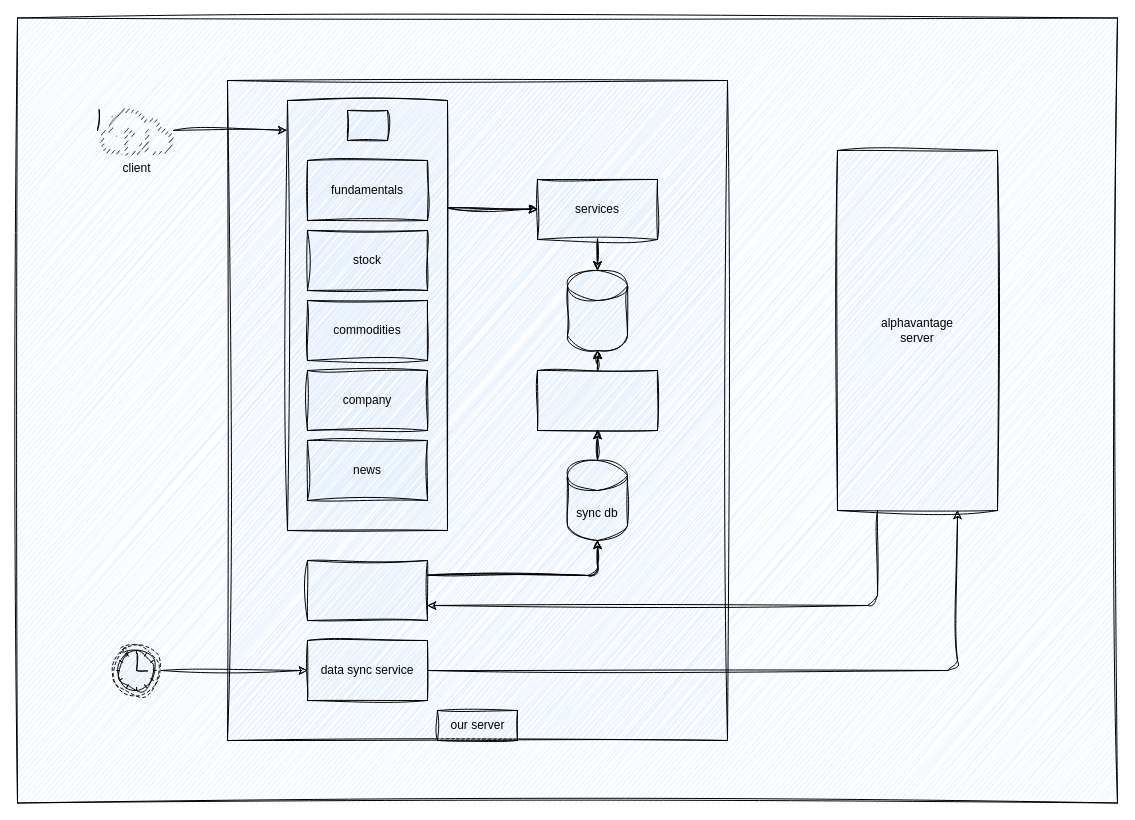
The diagram is 1135 pixels wide and 820 high, and some of its shapes have lost their labels. The shapes that lost their labels are listed below. From the top down, each one's centre as x and y in pixels, then its label:
[367,125]: API
[597,310]: db
[597,400]: mongodb stream logic to transform data
[367,590]: write to db
[136,670]: scheduler
